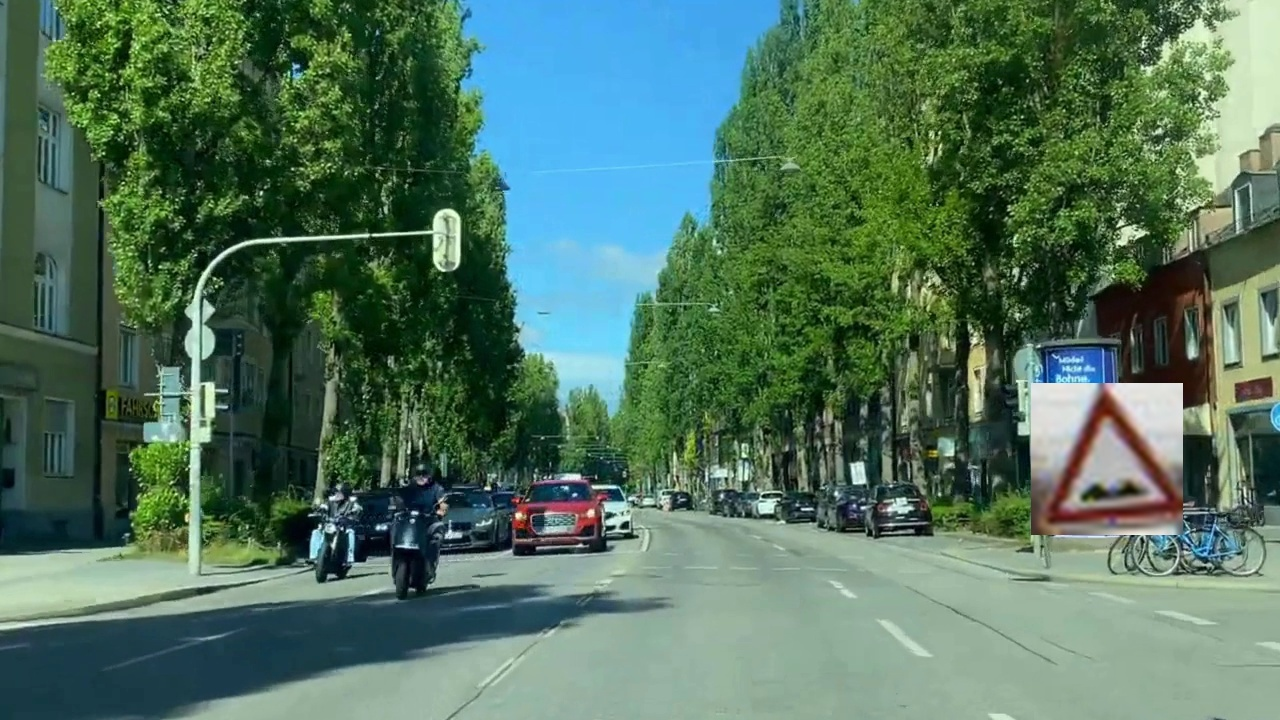Bumpy road: (1031, 383, 1183, 535)
